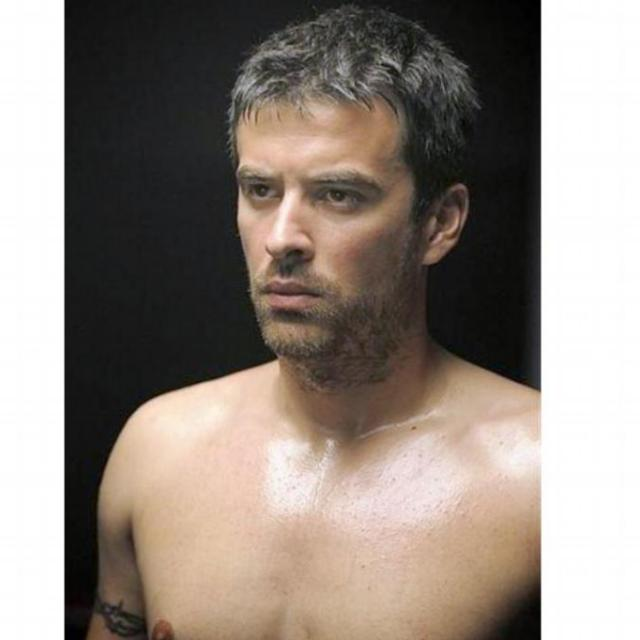live: (225, 39, 450, 376)
